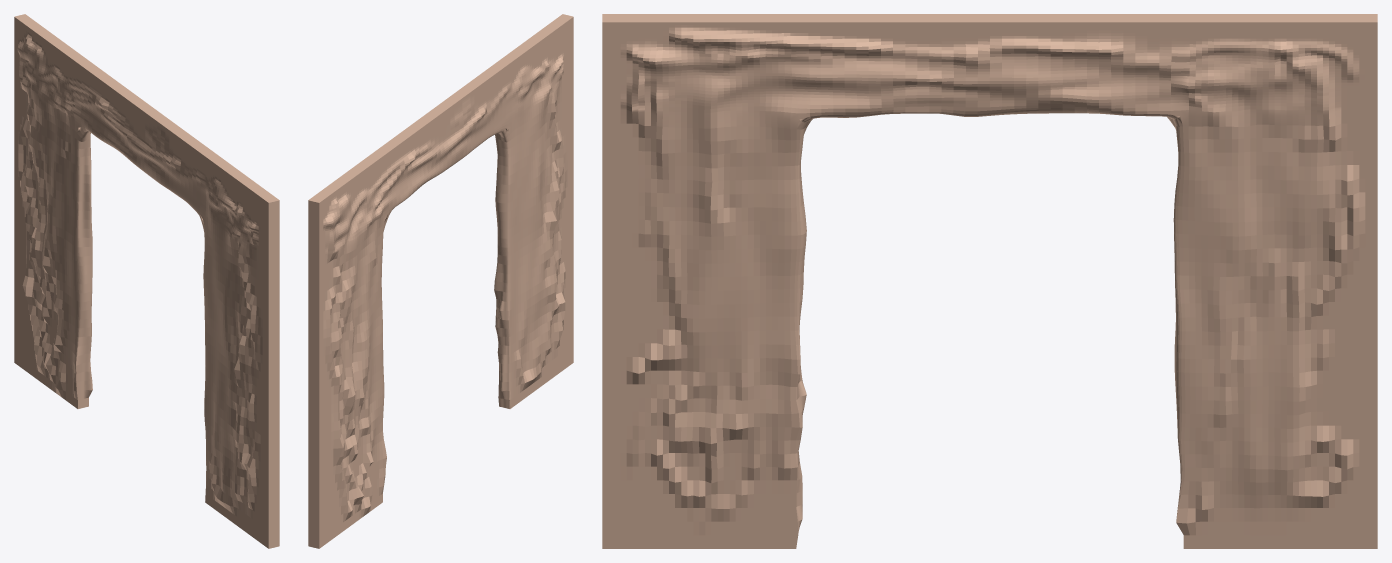
The model's file is structure_doorstraight.fbx.
3 renders of one model, left to right at view 1: azimuth 30°, elevation 25°; view 2: azimuth 150°, elevation 25°; view 3: azimuth 270°, elevation 25°, orthographic. The views are drawn at different scales.
Parts seen in each view (by area): view 1: doorstraight_LOD0; view 2: doorstraight_LOD0; view 3: doorstraight_LOD0.
Boxes of the visible parts, x1=… form: doorstraight_LOD0: x1=14, y1=14, x2=279, y2=548; doorstraight_LOD0: x1=308, y1=14, x2=573, y2=548; doorstraight_LOD0: x1=602, y1=14, x2=1377, y2=548.
Size of what is drawn, in the model's own units: 23.99 by 300 by 400.
